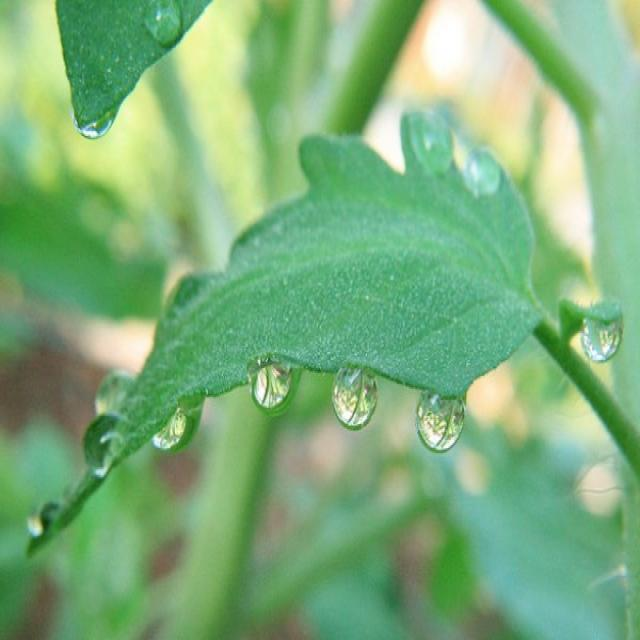Tomato healthy leaf: (31, 106, 635, 550)
